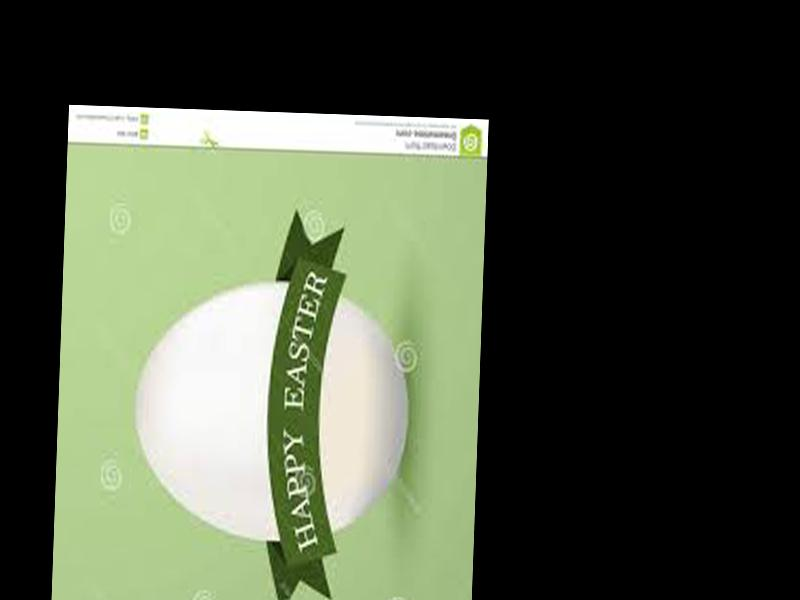Eggs: (131, 275, 411, 542)
